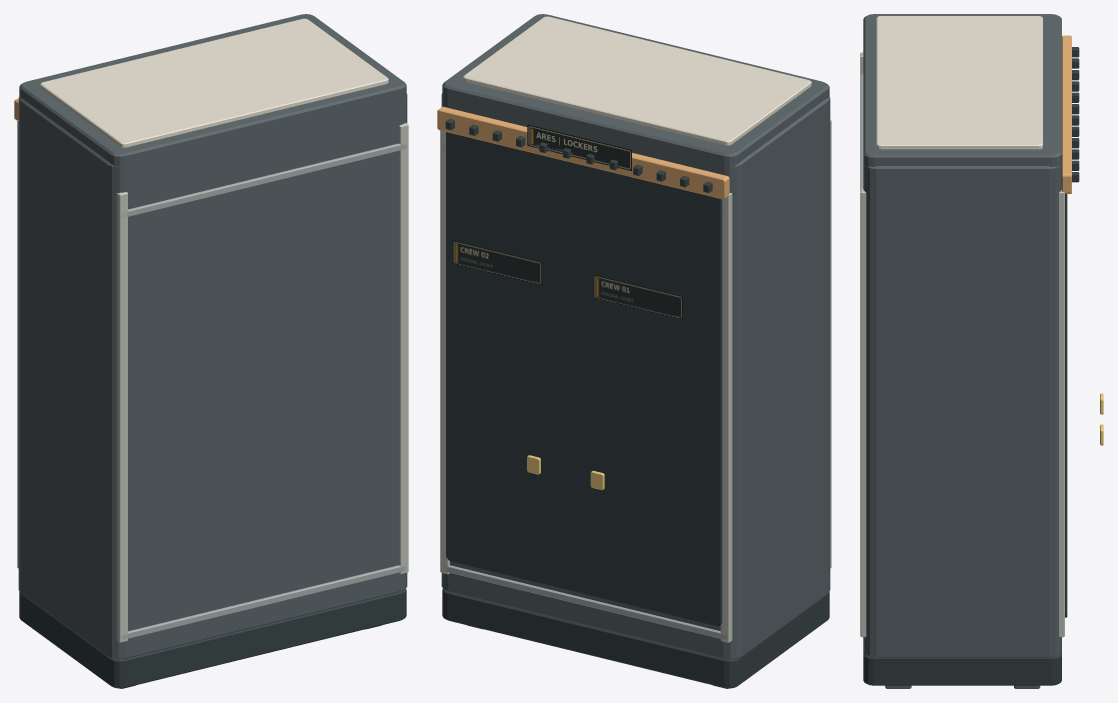
File: locker_retro.glb
3 views of the same model, side by side, from view 1: azimuth 30°, elevation 25°; view 2: azimuth 150°, elevation 25°; view 3: azimuth 270°, elevation 25° (orthographic).
Parts seen in each view (by area): view 1: static_graphite, static_cream, static_deep, static_satinsteel, static_steel; view 2: static_deep, static_graphite, static_cream, static_satinsteel, static_ochre, static_steel, CREW 01_00, CREW 02_01, ARES | LOCKERS_02; view 3: static_graphite, static_cream, static_deep, static_satinsteel, static_ochre, static_steel.
Boxes of the visible parts, bbox=[...] form: static_graphite: bbox=[18, 14, 407, 688]; static_cream: bbox=[40, 18, 388, 147]; static_deep: bbox=[19, 589, 406, 688]; static_satinsteel: bbox=[17, 120, 408, 642]; static_steel: bbox=[122, 143, 406, 639]; static_deep: bbox=[442, 118, 829, 688]; static_graphite: bbox=[441, 14, 830, 688]; static_cream: bbox=[463, 16, 811, 145]; static_satinsteel: bbox=[440, 119, 831, 642]; static_ochre: bbox=[437, 106, 729, 199]; static_steel: bbox=[442, 144, 726, 639]; CREW 01_00: bbox=[593, 274, 682, 319]; CREW 02_01: bbox=[452, 240, 541, 284]; ARES | LOCKERS_02: bbox=[527, 124, 631, 170]; static_graphite: bbox=[863, 14, 1061, 688]; static_cream: bbox=[876, 16, 1042, 149]; static_deep: bbox=[863, 47, 1079, 685]; static_satinsteel: bbox=[860, 52, 1064, 637]; static_ochre: bbox=[1062, 35, 1071, 193]; static_steel: bbox=[860, 74, 863, 188].
Bounding box in the file's own units: 1.17 × 2.06 × 0.832.
Materials: 11 (3 with a texture image).
